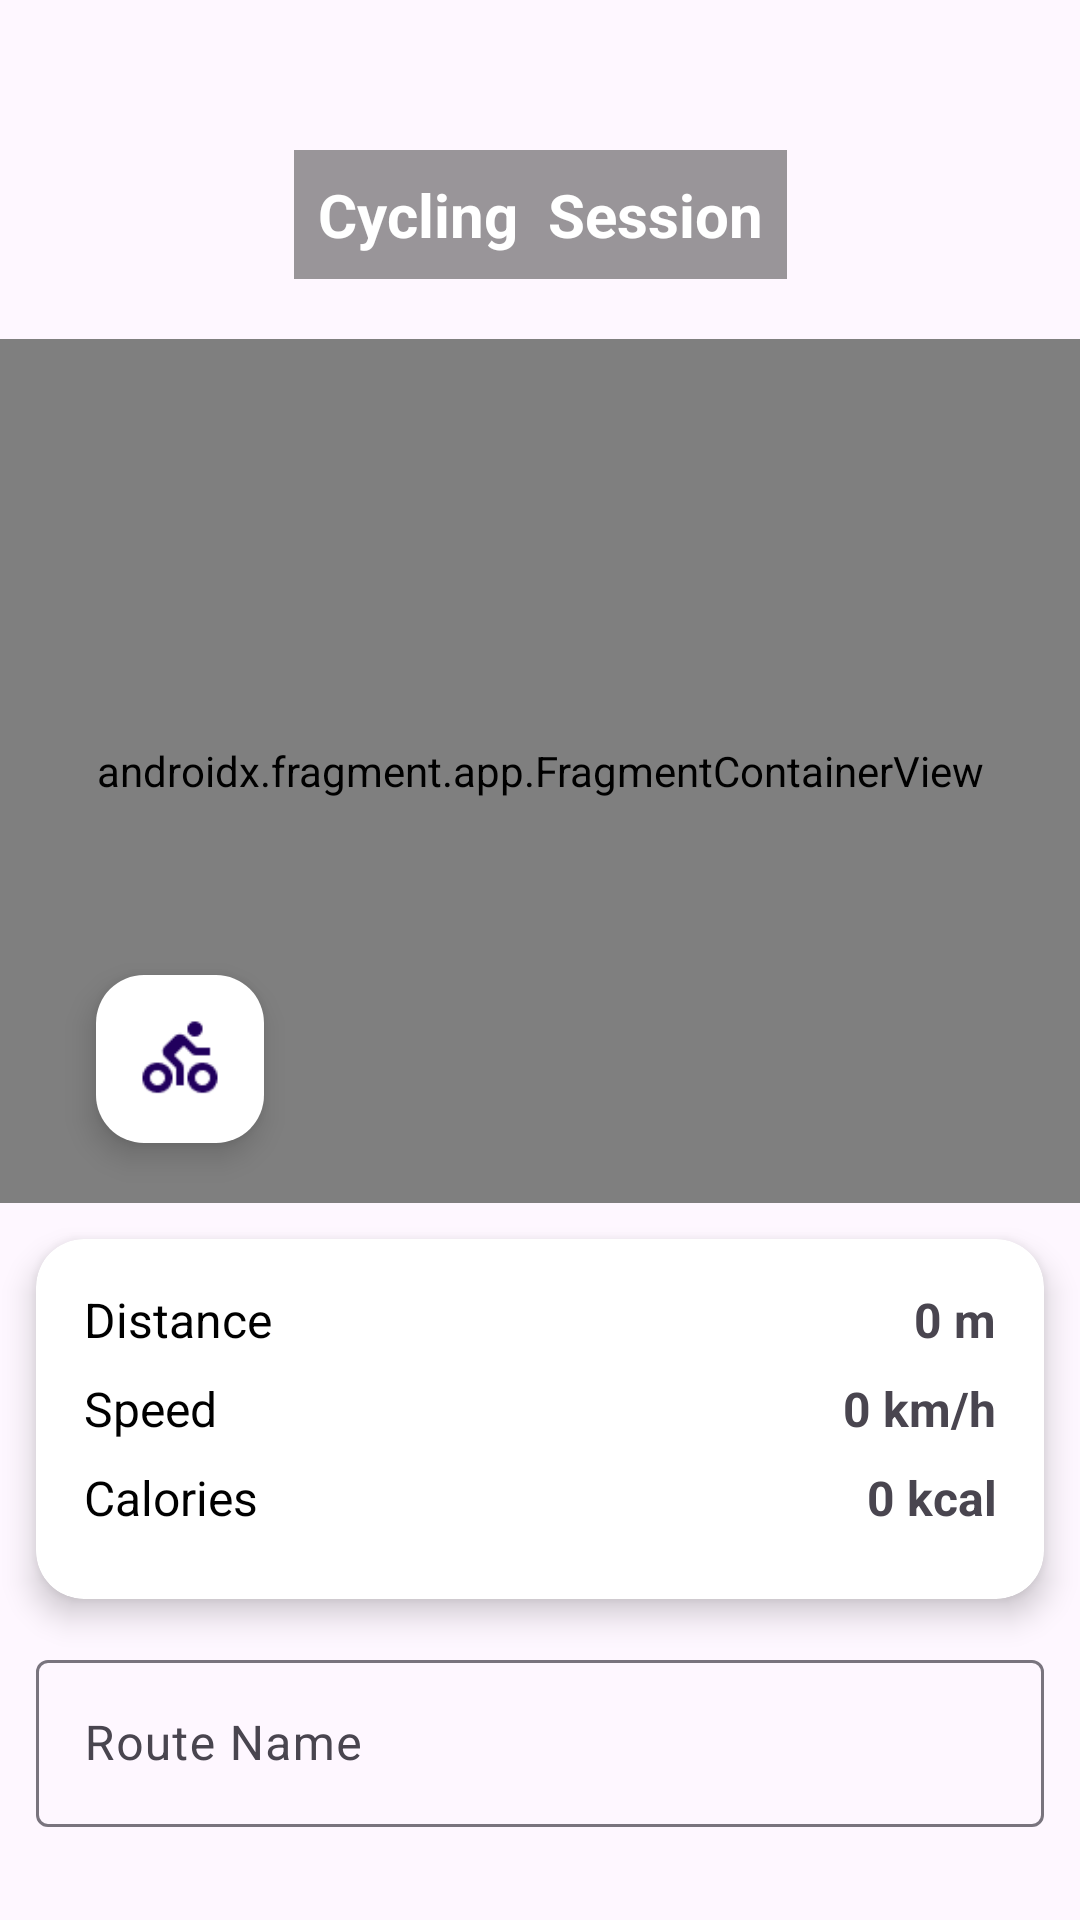

Icon bounding boxes for this 1080×1920 phone screenshot, format (x1, y1, x2, y2):
Start Track: (96, 975, 264, 1143)
